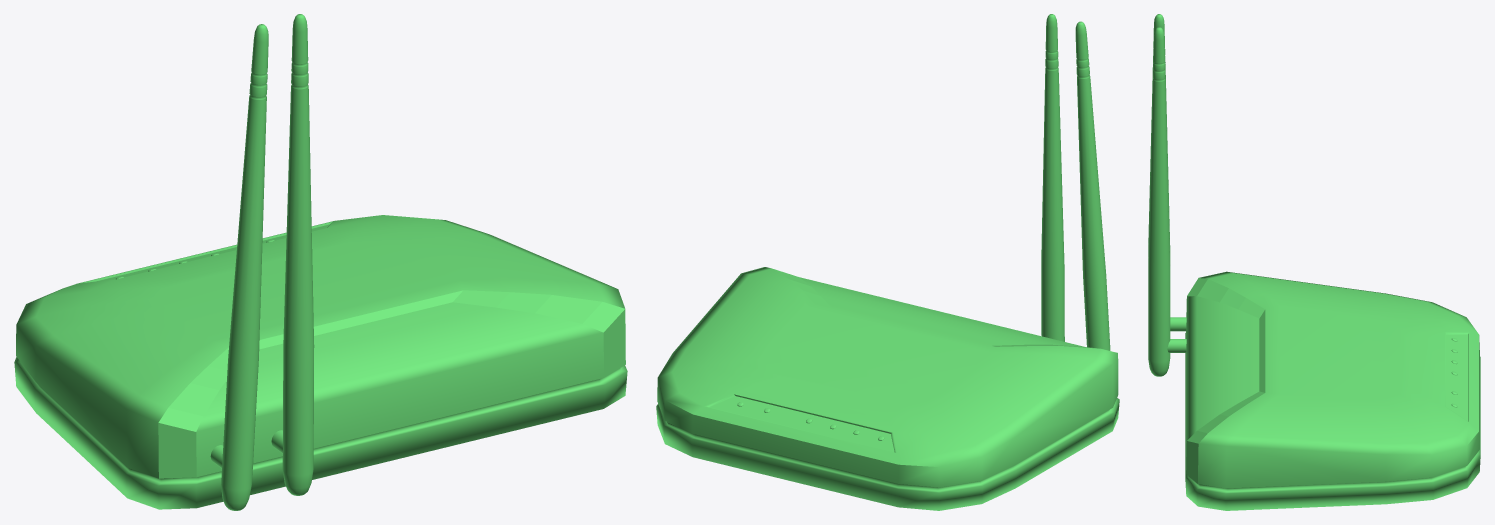
The model's file is Router.fbx.
The picture shows the model from 3 angles, left to right: view 1: azimuth 30°, elevation 25°; view 2: azimuth 150°, elevation 25°; view 3: azimuth 270°, elevation 25°; orthographic projection. The views are drawn at different scales.
Parts seen in each view (by area): view 1: pCube19; view 2: pCube19; view 3: pCube19.
Boxes of the visible parts, x1,y1,x2,y2 form: pCube19: (14, 14, 627, 510); pCube19: (656, 14, 1119, 510); pCube19: (1148, 14, 1480, 510).
Bounding box in the file's own units: 0.2228 × 0.2093 × 0.1783.
